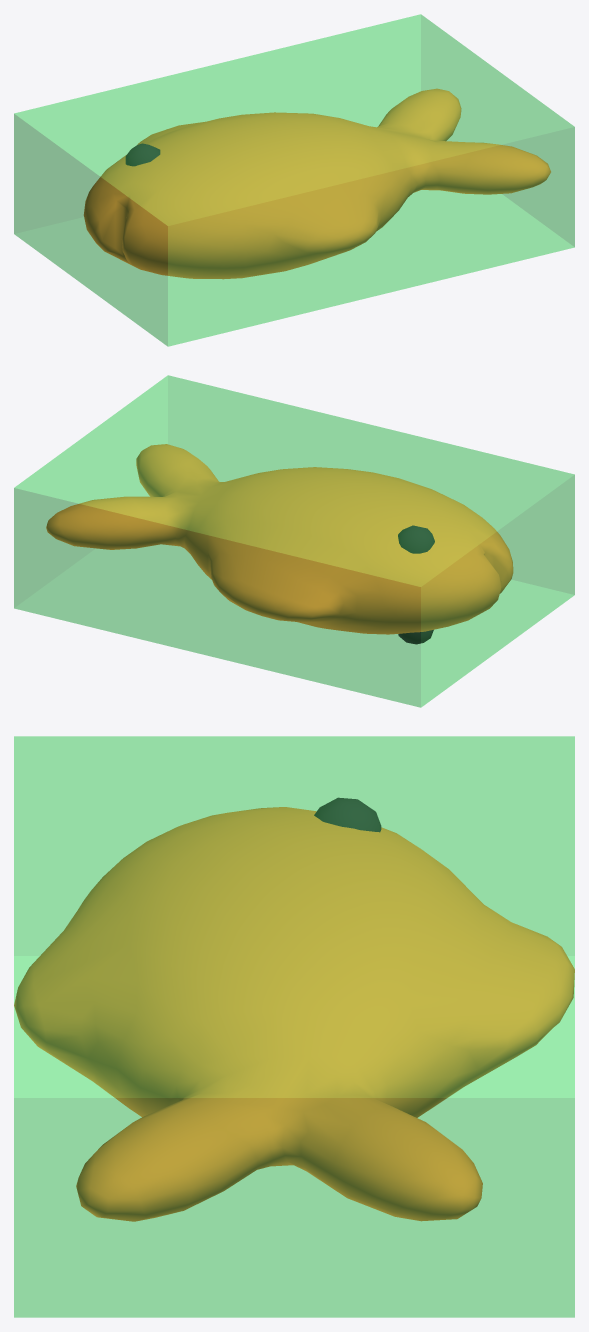
File: Piece_03_Fish.fbx
3 renders of one model, top to bottom at view 1: azimuth 30°, elevation 25°; view 2: azimuth 150°, elevation 25°; view 3: azimuth 270°, elevation 25°, orthographic. The views are drawn at different scales.
Parts seen in each view (by area): view 1: COL_Piece_03, Piece_03_Fish; view 2: COL_Piece_03, Piece_03_Fish; view 3: COL_Piece_03, Piece_03_Fish.
Boxes of the visible parts, x1,y1,x2,y2 form: COL_Piece_03: (14, 14, 574, 346); Piece_03_Fish: (84, 88, 550, 279); COL_Piece_03: (14, 375, 574, 707); Piece_03_Fish: (46, 444, 513, 644); COL_Piece_03: (14, 736, 574, 1317); Piece_03_Fish: (14, 797, 574, 1221).
Size of the model in its own units: 0.0774 by 0.0219 by 0.0507.
